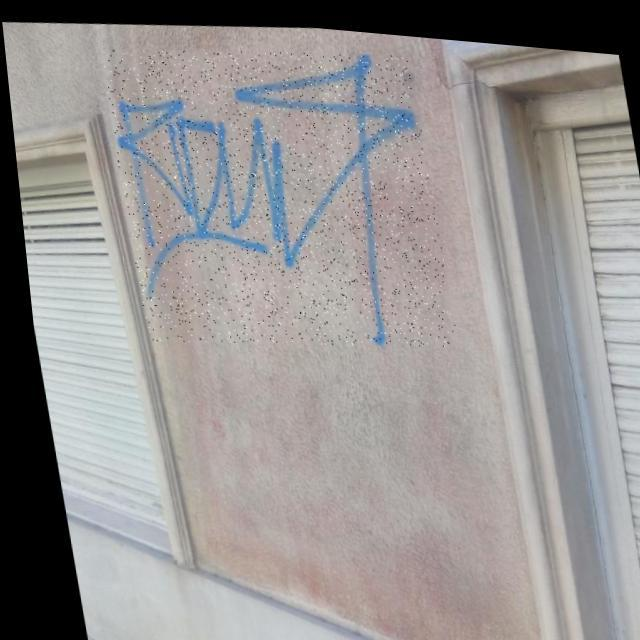-: (95, 25, 453, 360)
